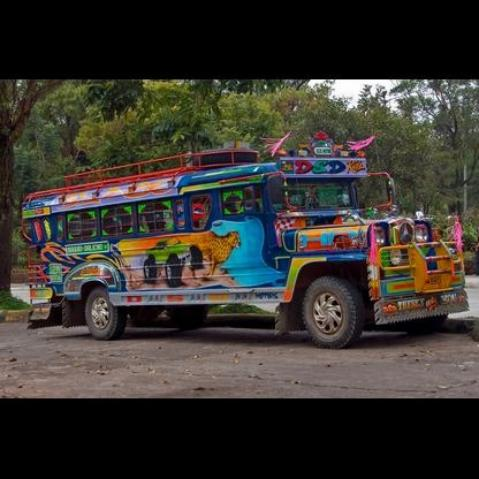jeepney: (18, 140, 475, 341)
